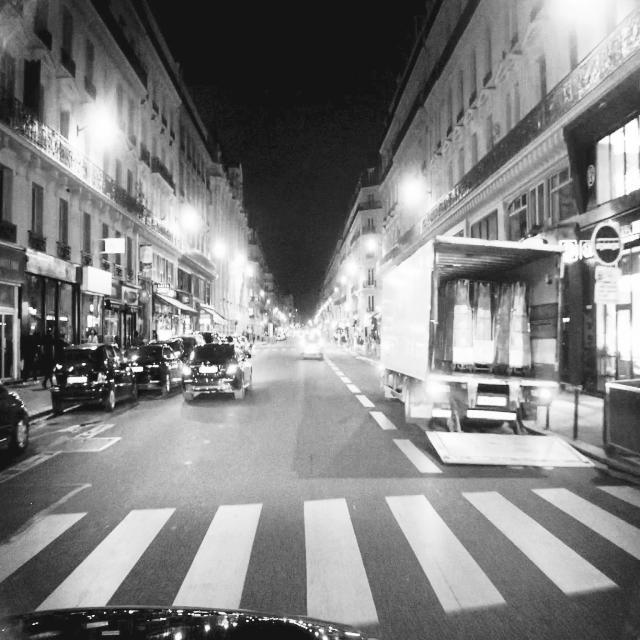Car: (53, 343, 134, 412), (184, 343, 253, 401)
Truck: (371, 236, 597, 470)
